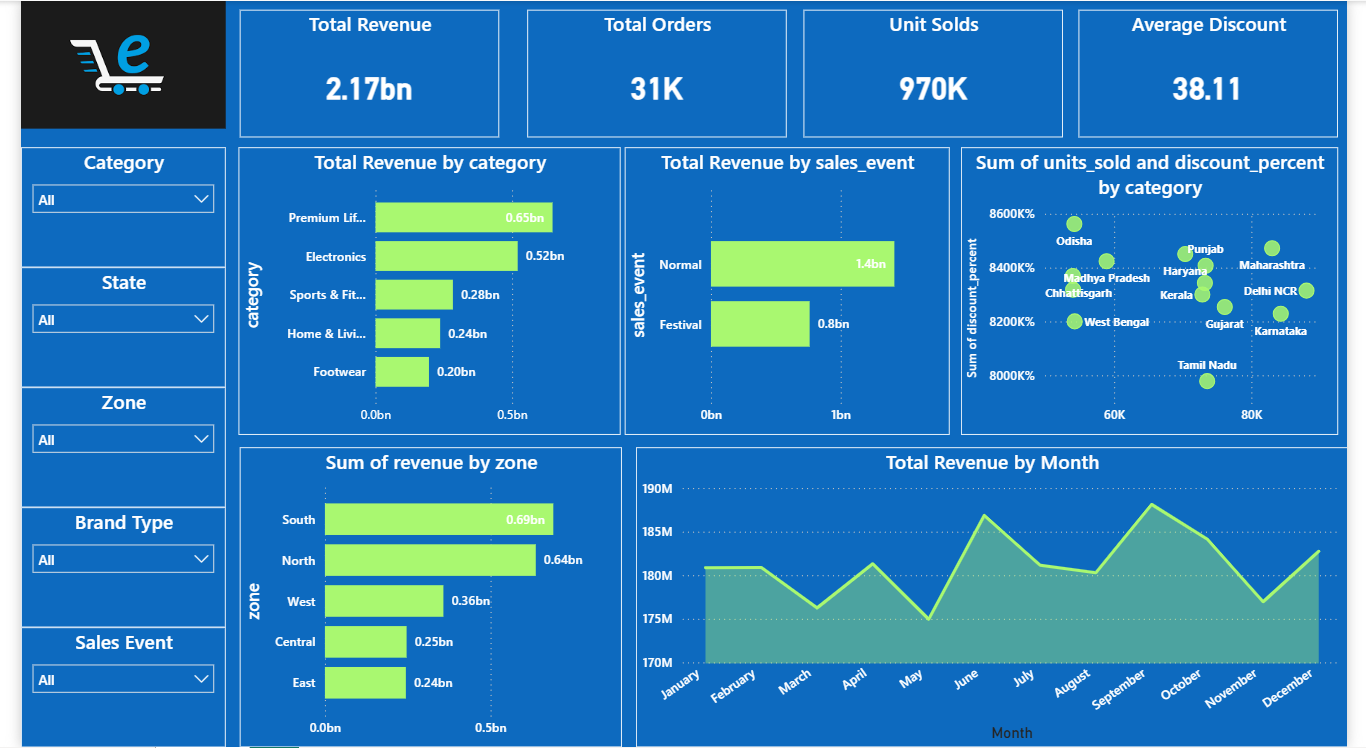

This screenshot's page, from the dashboard's own definition file:
{"tool":"powerbi","page":{"name":"Page 1","canvas":[1280,720],"ordinal":0},"visuals":[{"type":"card","title":"Total Revenue","fields":{"Values":["Measuresss.Total Revenue"]},"box":[210.9,8.6,250.4,123.3],"z":0},{"type":"card","title":"Average Discount","fields":{"Values":["Measuresss.Average Discount"]},"box":[1021.2,8.6,250.4,123.3],"z":1000},{"type":"card","title":"Total Orders","fields":{"Values":["Measuresss.Total Orders"]},"box":[488.4,8.6,250.4,123.3],"z":2000},{"type":"card","title":"Unit Solds","fields":{"Values":["Measuresss.Total Units Sold"]},"box":[754.8,8.6,250.4,123.3],"z":3000},{"type":"barChart","fields":{"Category":["ecommerce_clean.category"],"Y":["Measuresss.Total Revenue"]},"box":[209.7,140.6,368.8,277.5],"z":4000},{"type":"barChart","fields":{"Y":["Sum(ecommerce_clean.revenue)"],"Category":["ecommerce_clean.zone"]},"box":[210.9,430.2,368.8,289.8],"z":5000},{"type":"scatterChart","title":"Sum of units_sold and discount_percent by category","fields":{"X":["Sum(ecommerce_clean.units_sold)"],"Y":["Sum(ecommerce_clean.discount_percent)"],"Category":["ecommerce_clean.state"]},"box":[907.8,140.6,363.8,277.5],"z":6000},{"type":"barChart","fields":{"Category":["ecommerce_clean.sales_event"],"Y":["Measuresss.Total Revenue"]},"box":[582.2,140.6,313.3,277.5],"z":7000},{"type":"lineChart","fields":{"Category":["ecommerce_clean.order_date.Variation.Date Hierarchy.Month"],"Y":["Measuresss.Total Revenue"]},"box":[593.3,430.2,687,289.8],"z":8000},{"type":"slicer","title":"Category","fields":{"Values":["ecommerce_clean.category"]},"box":[0,140.6,197.3,115.9],"z":8001},{"type":"slicer","title":"State","fields":{"Values":["ecommerce_clean.state"]},"box":[0,256.5,197.3,115.9],"z":8002},{"type":"slicer","title":"Zone","fields":{"Values":["ecommerce_clean.zone"]},"box":[0,372.5,197.3,115.9],"z":8003},{"type":"slicer","title":"Brand Type","fields":{"Values":["ecommerce_clean.brand_type"]},"box":[0,488.4,197.3,115.9],"z":8004},{"type":"slicer","title":"Sales Event","fields":{"Values":["ecommerce_clean.sales_event"]},"box":[0,604.4,197.3,115.9],"z":8005},{"type":"image","box":[0,0,197.3,123.3],"z":8006}]}

Visuals, with their boxes in screenshot pixels (x1, y1, x2, y2), scaled from the page's 1280x720 canvas onto the 1366x748 screenshot:
"Total Revenue" card: <region>225, 9, 492, 137</region>
"Average Discount" card: <region>1090, 9, 1357, 137</region>
"Total Orders" card: <region>521, 9, 788, 137</region>
"Unit Solds" card: <region>806, 9, 1073, 137</region>
barChart - ecommerce_clean.category x Measuresss.Total Revenue: <region>224, 146, 617, 434</region>
barChart - Sum(ecommerce_clean.revenue) x ecommerce_clean.zone: <region>225, 447, 619, 747</region>
"Sum of units_sold and discount_percent by category" scatterChart: <region>969, 146, 1357, 434</region>
barChart - ecommerce_clean.sales_event x Measuresss.Total Revenue: <region>621, 146, 956, 434</region>
lineChart - ecommerce_clean.order_date.Variation.Date Hierarchy.Month x Measuresss.Total Revenue: <region>633, 447, 1365, 747</region>
"Category" slicer: <region>0, 146, 211, 266</region>
"State" slicer: <region>0, 266, 211, 387</region>
"Zone" slicer: <region>0, 387, 211, 507</region>
"Brand Type" slicer: <region>0, 507, 211, 628</region>
"Sales Event" slicer: <region>0, 628, 211, 747</region>
image: <region>0, 0, 211, 128</region>
